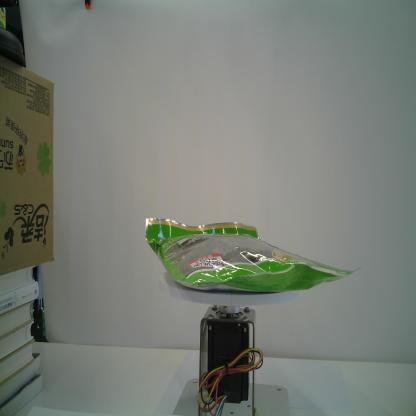Dried Food: (145, 217, 361, 293)
